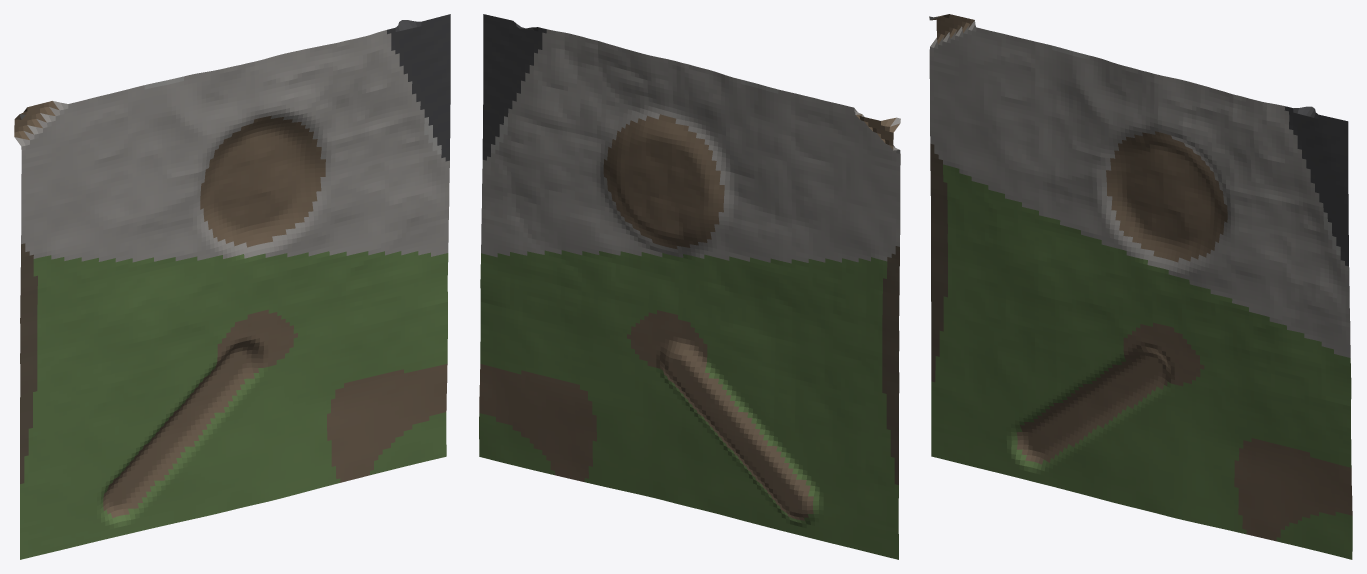
Rendered from SARM_SAR_Terrain_02_02.glb.
The picture shows the model from 3 angles, left to right: view 1: azimuth 30°, elevation 25°; view 2: azimuth 150°, elevation 25°; view 3: azimuth 330°, elevation 25°; orthographic projection.
Parts seen in each view (by area): view 1: SAR_Terrain_02_02.001; view 2: SAR_Terrain_02_02.001; view 3: SAR_Terrain_02_02.001.
Boxes of the visible parts, left/top/right/bottom form: SAR_Terrain_02_02.001: left=14, top=14, right=450, bottom=559; SAR_Terrain_02_02.001: left=479, top=14, right=900, bottom=559; SAR_Terrain_02_02.001: left=929, top=14, right=1352, bottom=559.
Bounding box in the file's own units: 50 × 50 × 2.56.
